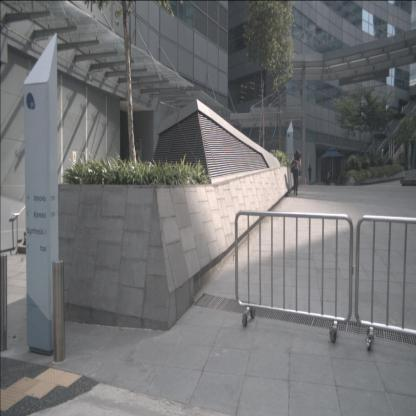human-pedestrian-adult: (290, 149, 302, 196), (326, 168, 332, 185), (308, 164, 312, 185)
movable_object-trafficcone: (305, 176, 307, 184)
